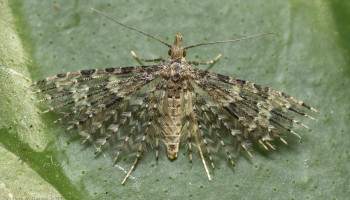Alucitidae: (17, 9, 318, 190)
moth: (15, 7, 316, 188)
